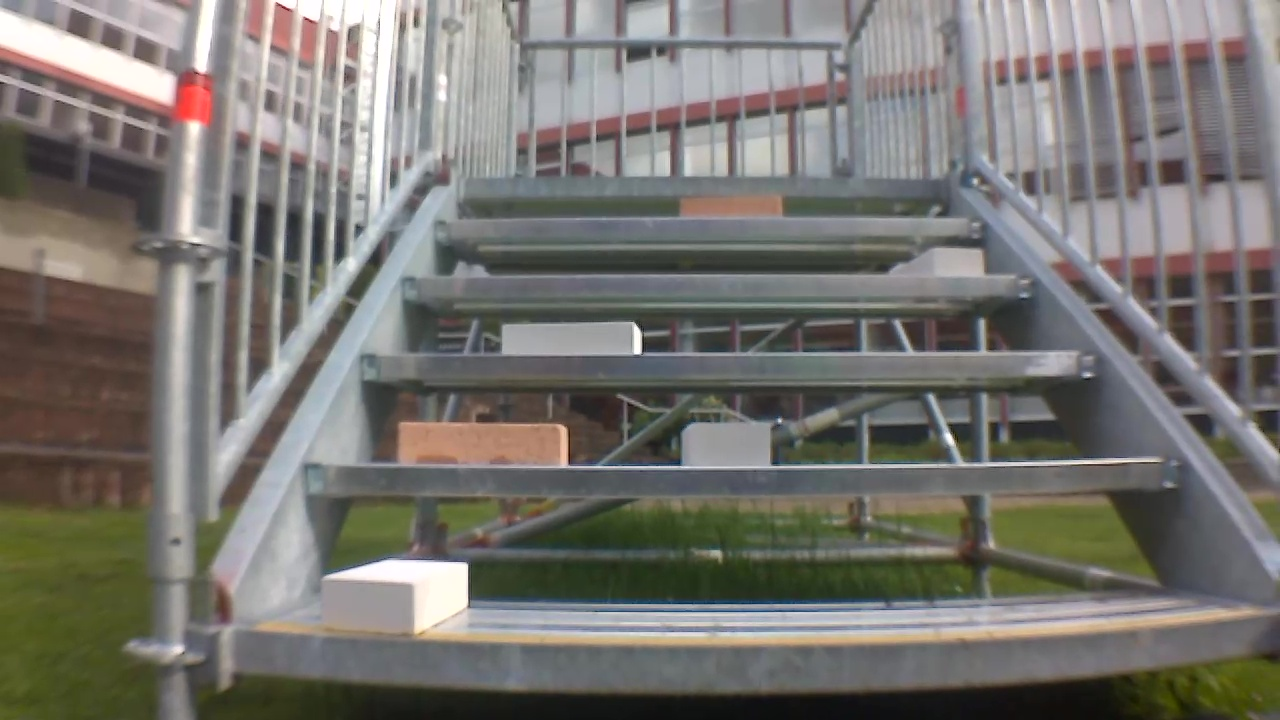brick: (322, 559, 466, 633), (400, 422, 567, 465), (503, 323, 641, 353), (683, 423, 771, 465), (679, 194, 779, 218), (906, 247, 982, 274)
edge: (242, 617, 1273, 690), (302, 456, 1185, 497), (362, 350, 1098, 378), (403, 273, 1038, 297), (437, 217, 988, 240), (459, 177, 941, 196)
stairs: (145, 4, 1280, 720)
steps: (231, 170, 1280, 711)
